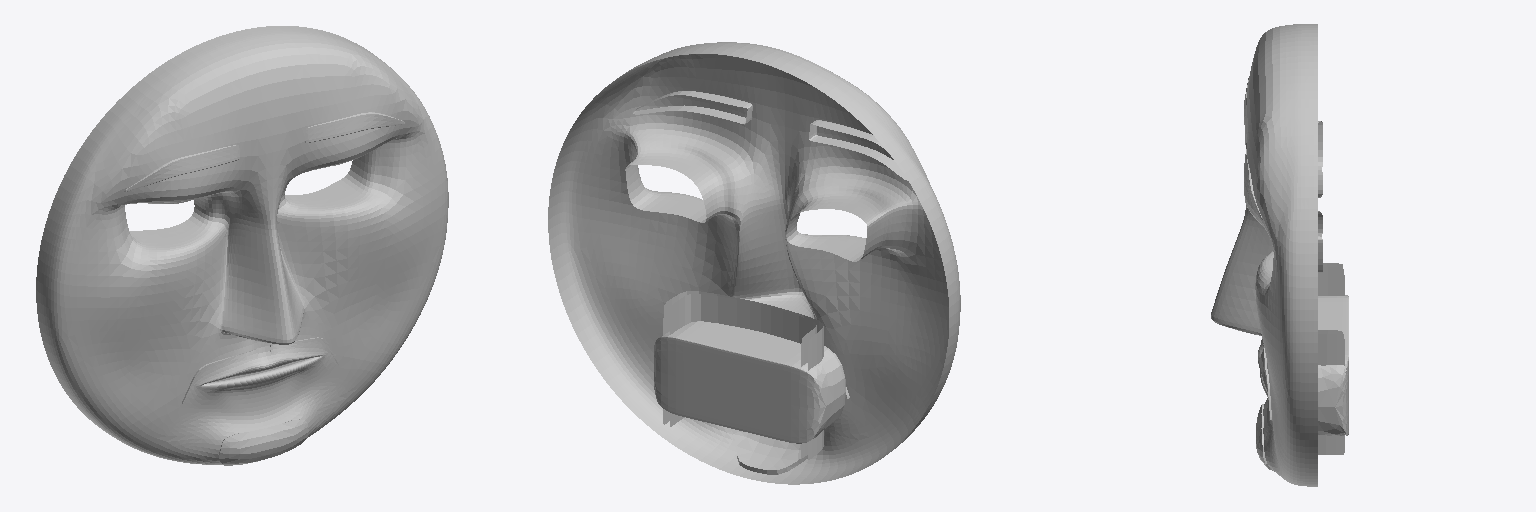
Rendered from Default Expressions.obj.
The picture shows the model from 3 angles: view 1: azimuth 30°, elevation 25°; view 2: azimuth 150°, elevation 25°; view 3: azimuth 270°, elevation 25°; orthographic projection.
Parts seen in each view (by area): view 1: Circle.018_Circle.046; view 2: Circle.018_Circle.046; view 3: Circle.018_Circle.046.
Boxes of the visible parts, x1,y1,x2,y2 form: Circle.018_Circle.046: [36, 26, 448, 465]; Circle.018_Circle.046: [548, 42, 960, 484]; Circle.018_Circle.046: [1211, 24, 1348, 486].
Bounding box in the file's own units: 50.64 × 50.76 × 15.12.